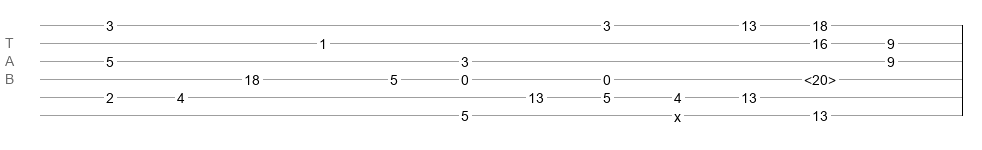0: (461, 72, 469, 82), (603, 72, 611, 82)
1: (319, 36, 327, 46)
13: (528, 90, 544, 100), (741, 18, 757, 28), (741, 90, 757, 100), (812, 108, 828, 118)
16: (812, 36, 828, 46)
18: (244, 72, 260, 82), (812, 18, 828, 28)
2: (106, 90, 114, 100)
3: (106, 18, 114, 28), (461, 54, 469, 64), (603, 18, 611, 28)
4: (177, 90, 185, 100), (674, 90, 682, 100)
5: (106, 54, 114, 64), (390, 72, 398, 82), (461, 108, 469, 118), (603, 90, 611, 100)
9: (887, 54, 895, 64), (887, 36, 895, 46)
harmonic: (804, 72, 836, 82)
x: (674, 109, 681, 117)
